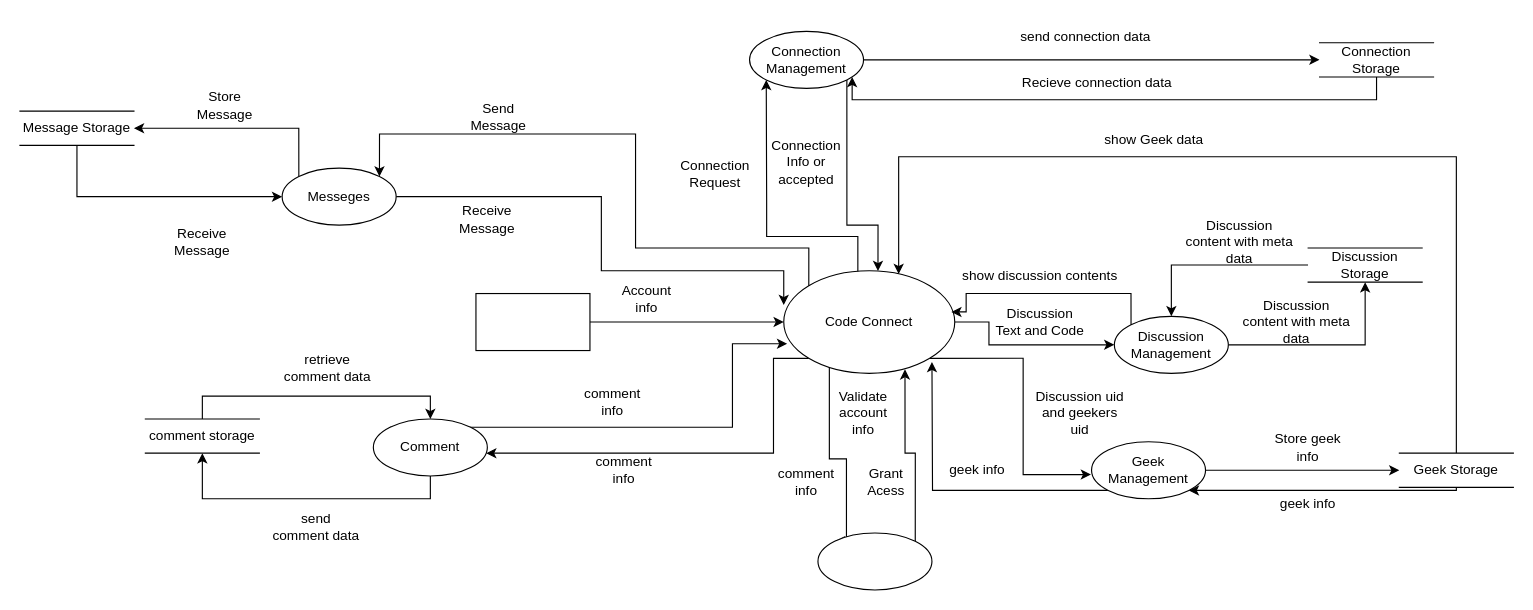
Image size: 1533x610. Some labels were removed from this diagram. The box of each missing label's shape, as (x1, y1, x2, y2) in pixels:
Authenticate User: (817, 532, 932, 590)
user: (475, 292, 590, 351)
